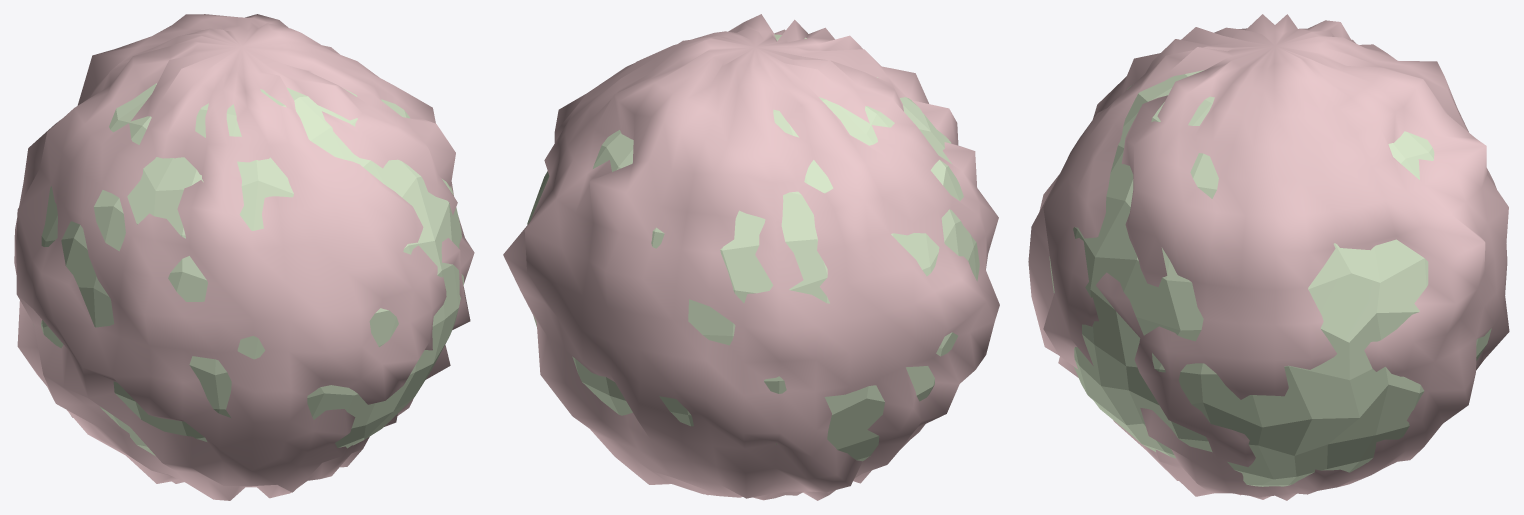
File: alien_planet.dae
3 renders of one model, left to right at view 1: azimuth 30°, elevation 25°; view 2: azimuth 150°, elevation 25°; view 3: azimuth 270°, elevation 25°, orthographic. The views are drawn at different scales.
Parts seen in each view (by area): view 1: alien planet, alien planet sea; view 2: alien planet, alien planet sea; view 3: alien planet, alien planet sea.
Boxes of the visible parts, left/top/right/bottom form: alien planet: left=14, top=14, right=474, bottom=500; alien planet sea: left=33, top=83, right=463, bottom=456; alien planet: left=503, top=14, right=999, bottom=500; alien planet sea: left=527, top=34, right=979, bottom=461; alien planet: left=1028, top=14, right=1509, bottom=500; alien planet sea: left=1049, top=70, right=1491, bottom=486.
Bounding box in the file's own units: 4.12 × 4.13 × 4.14.
